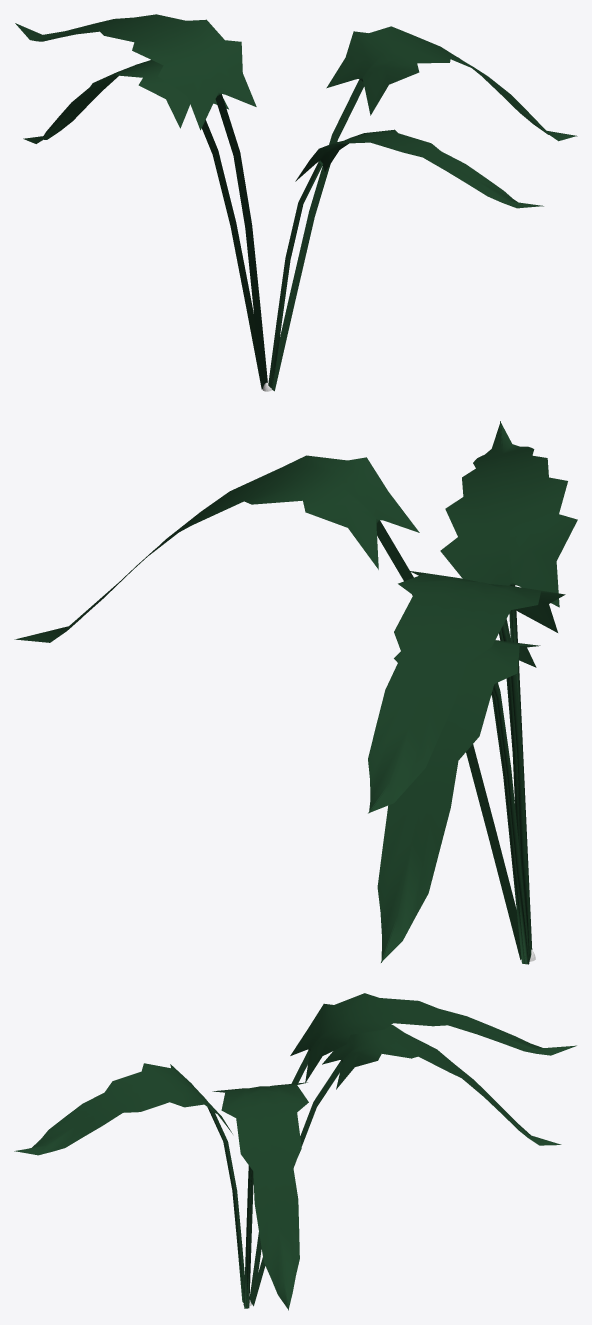
Rendered from Alocasia Lauterbachiana.fbx.
3 renders of one model, top to bottom at view 1: azimuth 30°, elevation 25°; view 2: azimuth 150°, elevation 25°; view 3: azimuth 270°, elevation 25°, orthographic. The views are drawn at different scales.
Parts seen in each view (by area): view 1: Alocasia Lauterbachiana|Alocasia Lauterbachiana Leaf|Dupli|2, Alocasia Lauterbachiana|Alocasia Lauterbachiana Leaf|Dupli|, Alocasia Lauterbachiana|Alocasia Lauterbachiana Leaf|Dupli|1, Alocasia Lauterbachiana|Alocasia Lauterbachiana Leaf|Dupli|3; view 2: Alocasia Lauterbachiana|Alocasia Lauterbachiana Leaf|Dupli|2, Alocasia Lauterbachiana|Alocasia Lauterbachiana Leaf|Dupli|3, Alocasia Lauterbachiana|Alocasia Lauterbachiana Leaf|Dupli|1, Alocasia Lauterbachiana|Alocasia Lauterbachiana Leaf|Dupli|; view 3: Alocasia Lauterbachiana|Alocasia Lauterbachiana Leaf|Dupli|, Alocasia Lauterbachiana|Alocasia Lauterbachiana Leaf|Dupli|2, Alocasia Lauterbachiana|Alocasia Lauterbachiana Leaf|Dupli|1, Alocasia Lauterbachiana|Alocasia Lauterbachiana Leaf|Dupli|3.
Boxes of the visible parts, bbox=[...] form: Alocasia Lauterbachiana|Alocasia Lauterbachiana Leaf|Dupli|2: bbox=[15, 14, 267, 386]; Alocasia Lauterbachiana|Alocasia Lauterbachiana Leaf|Dupli|: bbox=[271, 26, 577, 391]; Alocasia Lauterbachiana|Alocasia Lauterbachiana Leaf|Dupli|1: bbox=[268, 129, 543, 387]; Alocasia Lauterbachiana|Alocasia Lauterbachiana Leaf|Dupli|3: bbox=[23, 60, 266, 389]; Alocasia Lauterbachiana|Alocasia Lauterbachiana Leaf|Dupli|2: bbox=[368, 571, 565, 960]; Alocasia Lauterbachiana|Alocasia Lauterbachiana Leaf|Dupli|3: bbox=[377, 640, 540, 964]; Alocasia Lauterbachiana|Alocasia Lauterbachiana Leaf|Dupli|1: bbox=[440, 421, 577, 949]; Alocasia Lauterbachiana|Alocasia Lauterbachiana Leaf|Dupli|: bbox=[14, 455, 521, 959]; Alocasia Lauterbachiana|Alocasia Lauterbachiana Leaf|Dupli|: bbox=[212, 1082, 308, 1310]; Alocasia Lauterbachiana|Alocasia Lauterbachiana Leaf|Dupli|2: bbox=[249, 993, 576, 1303]; Alocasia Lauterbachiana|Alocasia Lauterbachiana Leaf|Dupli|1: bbox=[14, 1063, 244, 1303]; Alocasia Lauterbachiana|Alocasia Lauterbachiana Leaf|Dupli|3: bbox=[251, 1025, 561, 1306].
Size of the model in its own units: 623 by 454 by 819.
